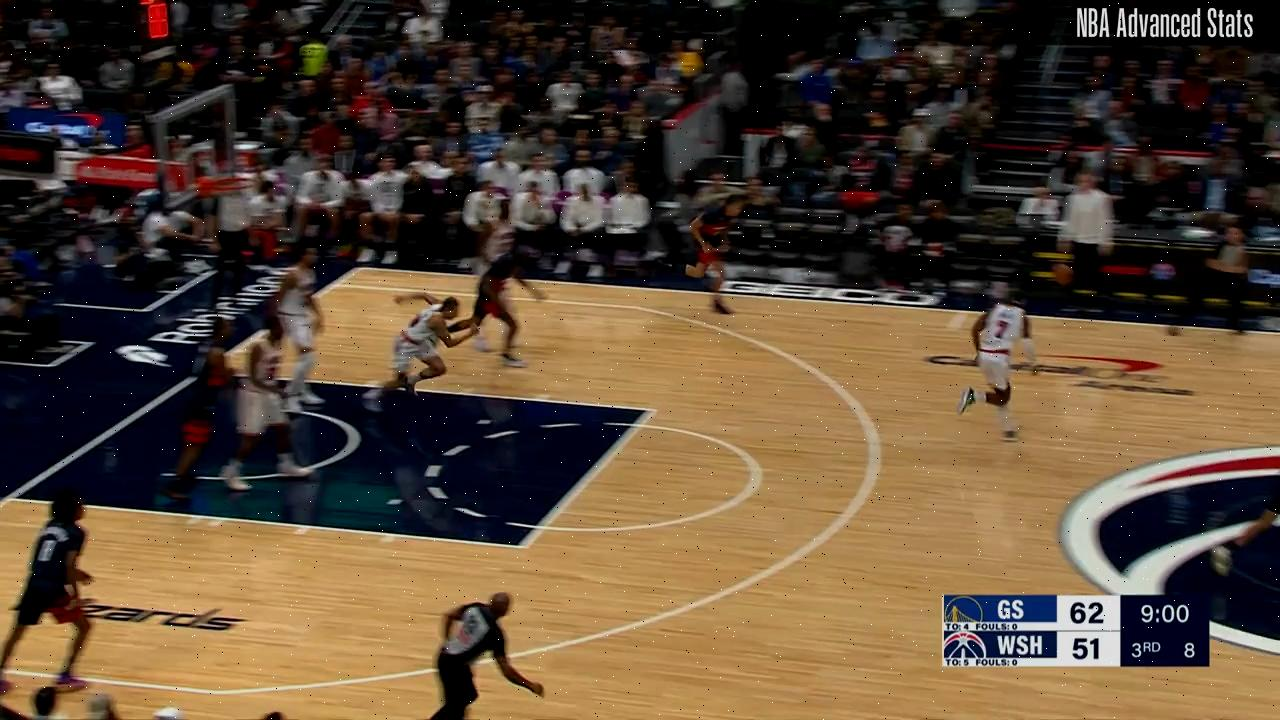basketball: (1051, 261, 1076, 287)
